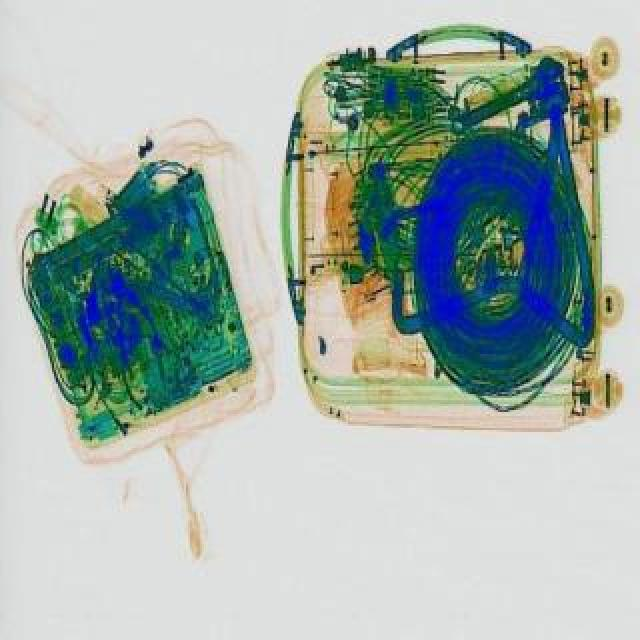scissors: (436, 56, 576, 152)
wrench: (88, 256, 168, 382)
